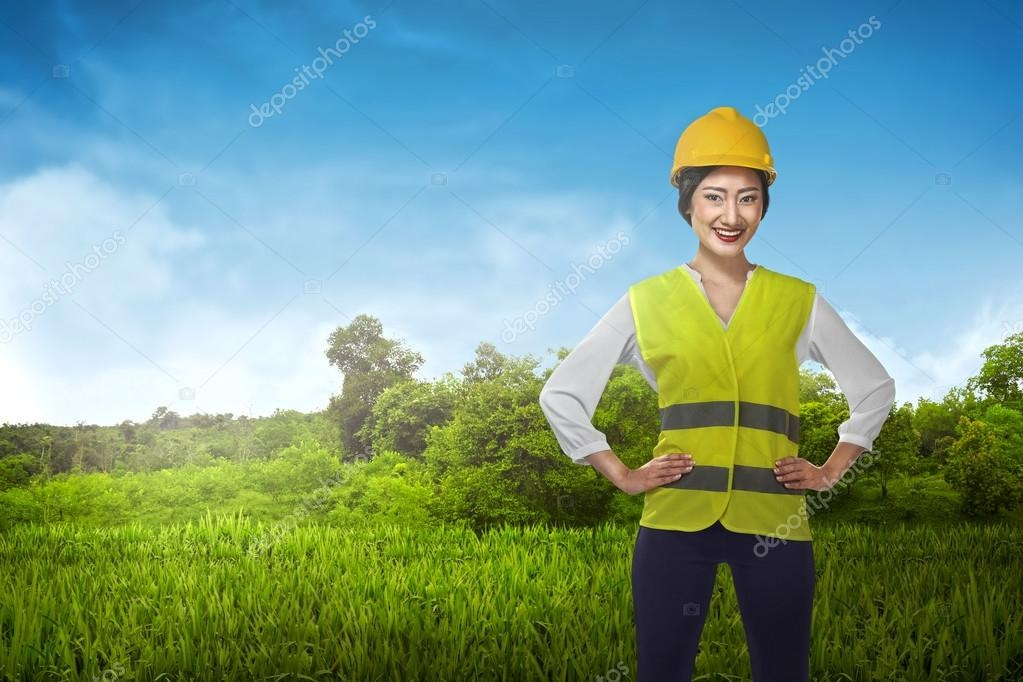helmet: (662, 102, 786, 185)
person with full safety: (613, 104, 821, 682)
safety vest: (635, 258, 808, 552)
